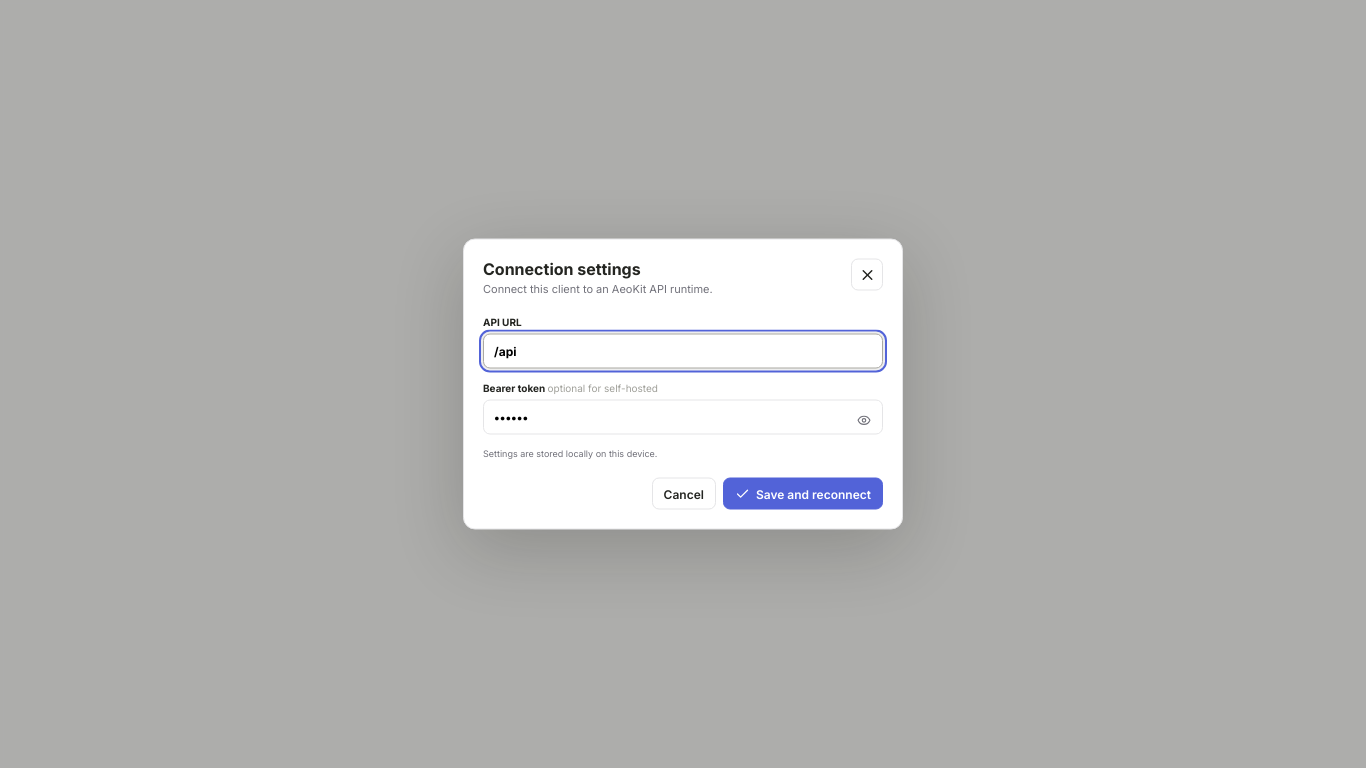
SettingsDialog › lets users verify and re-hide a pasted bearer token
This screenshot has width=1366, height=768.
What coordinates should you click on to do the following:
click the button named "Show bearer token"
I would click on:
 (864, 420)
Its box is 850,406 -> 878,434.
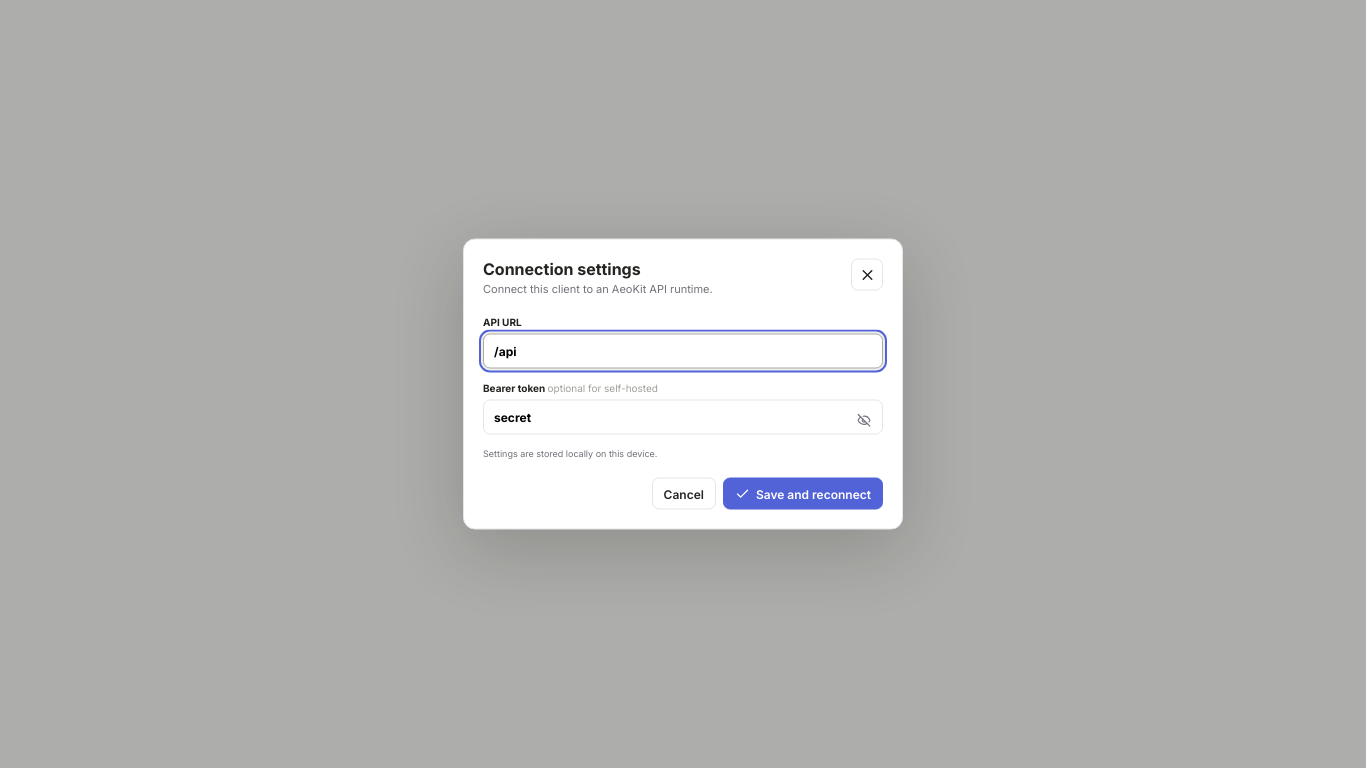
Result: the field showing "secret" shows its text at 483,400 -> 883,434
What coordinates should you click on to do the following:
click the button named "Hide bearer token"
I would click on:
 (864, 420)
Its box is 850,406 -> 878,434.
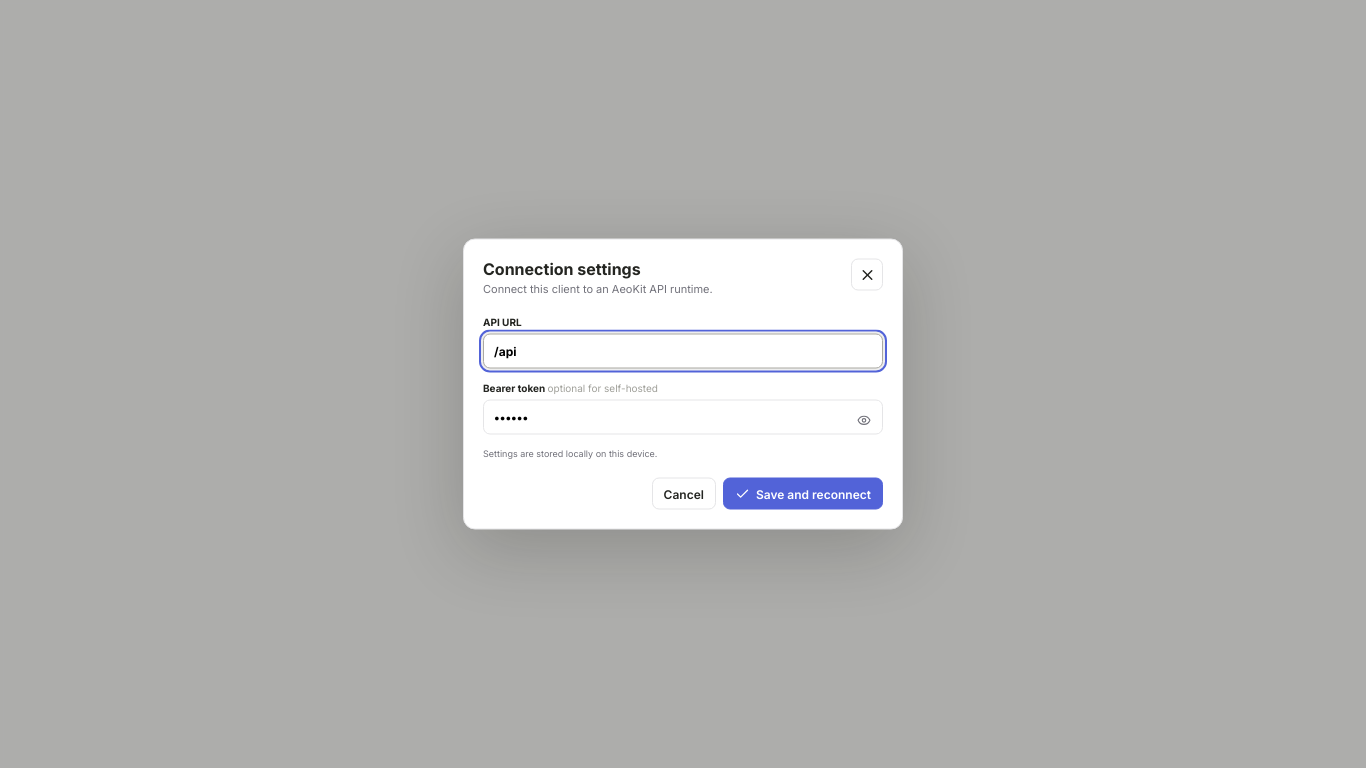
Result: the password field showing "secret" hides its text at 483,400 -> 883,434
